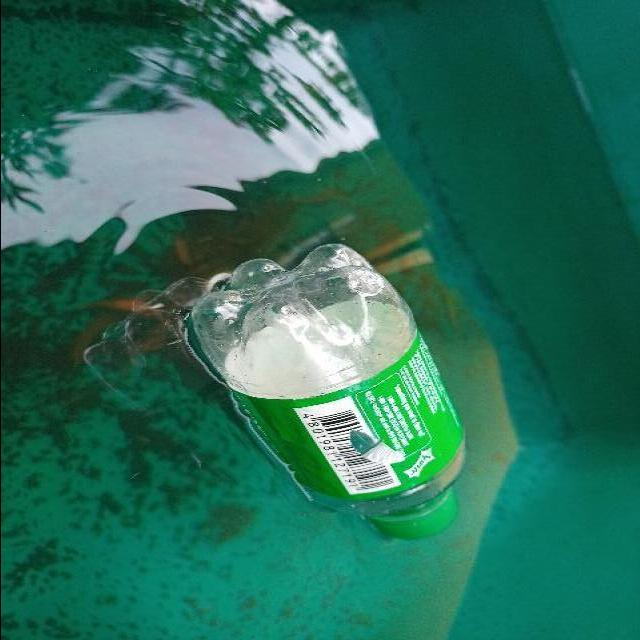Bottle: (178, 236, 478, 554)
